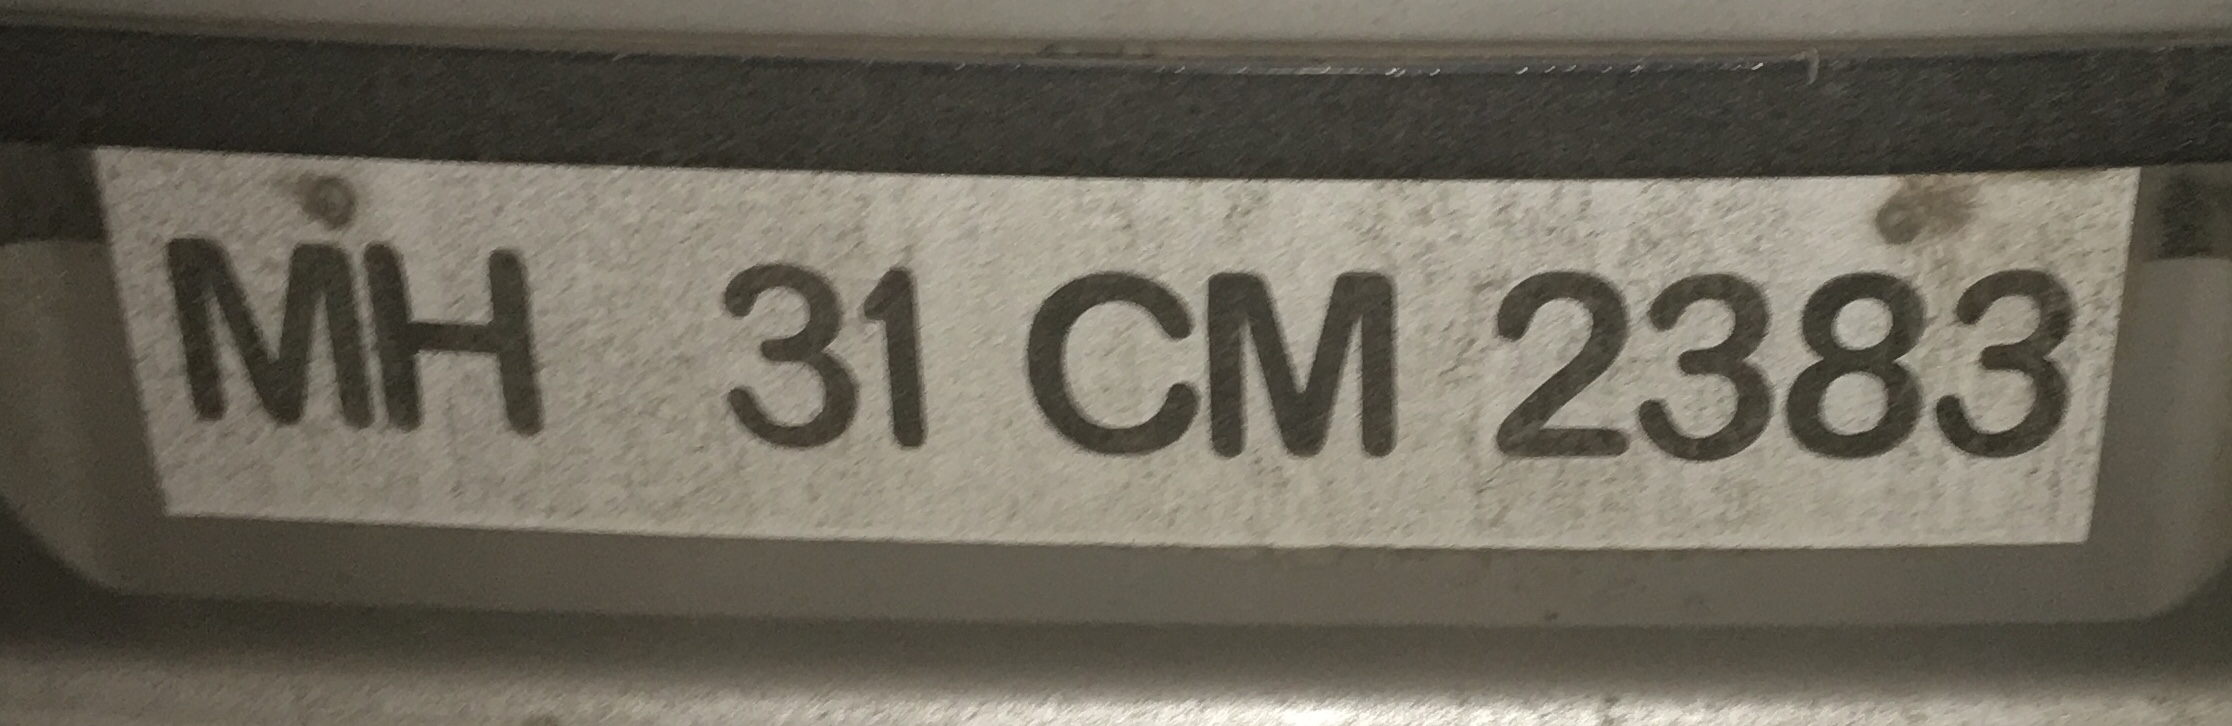numberplate: (88, 134, 2147, 559)
